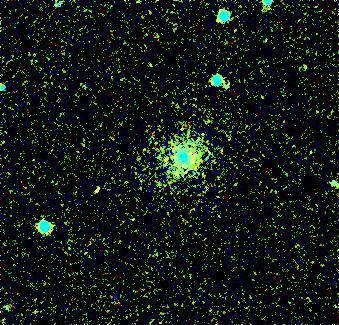star: (83, 173, 113, 203)
